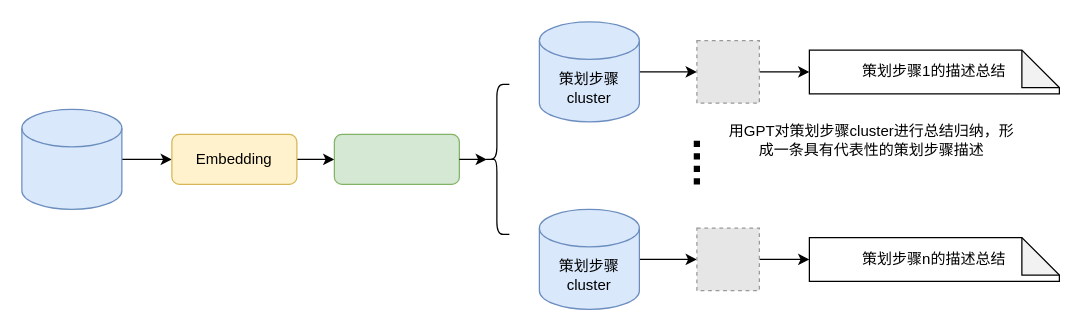
This 1081x331 diagram has some shape labels left out. Grey dashed boxes stand in for pictures. The centre of each missing label's shape, as x and y in pixels:
策划步骤全集: [71,158]
聚类算法: [396,158]
